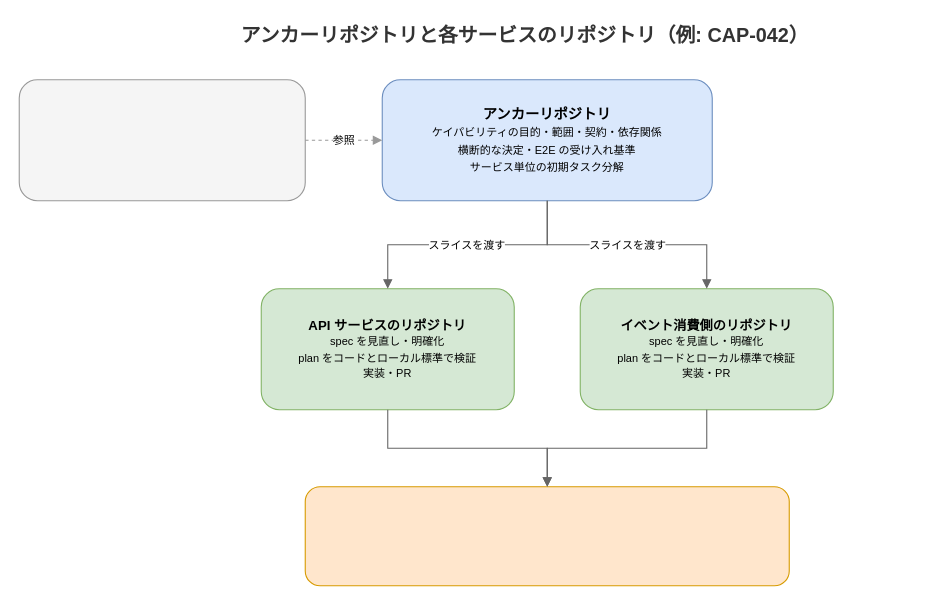
The diagram is 930 pixels wide and 605 high, and some of its shapes have lost their labels. The centre of each missing label's shape, as x and y in pixels:
共通パターン 全社原則・技術標準（API / イベント / 言語） 共有 constitution・テンプレート・プレイブック: (161,140)
統合受け入れ 検証済みバージョンの記録・デプロイ順の計画 両リポジトリの PR が緑でも、統合が完成した証明にはならない: (546,536)
